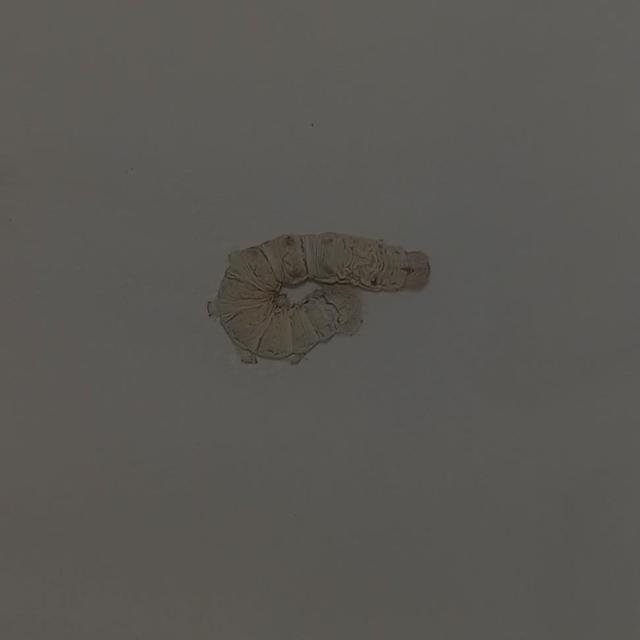Healthy: (195, 222, 441, 372)
